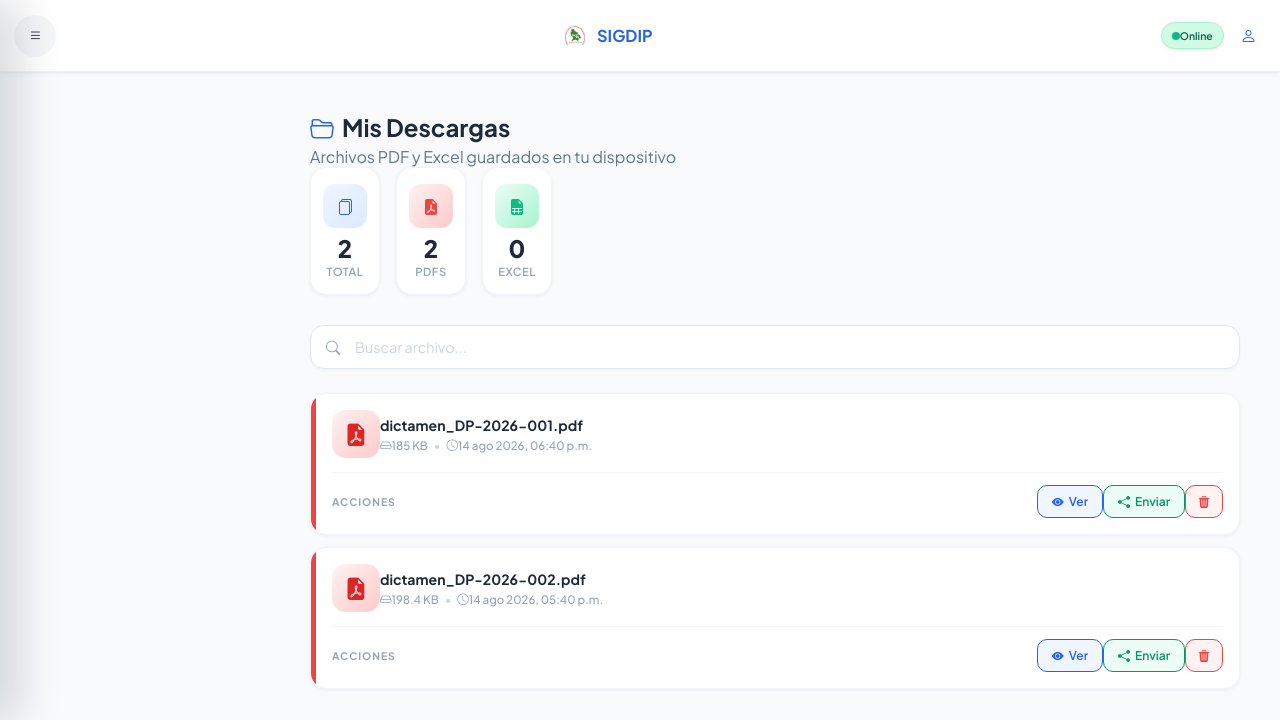
Test case: Flujo de Descargas (E2E) › filtra archivos por busqueda
This screenshot has width=1280, height=720.
Type "001" into the field with placeholder "Buscar archivo..." at point(775, 347), box [310,325,1240,369]
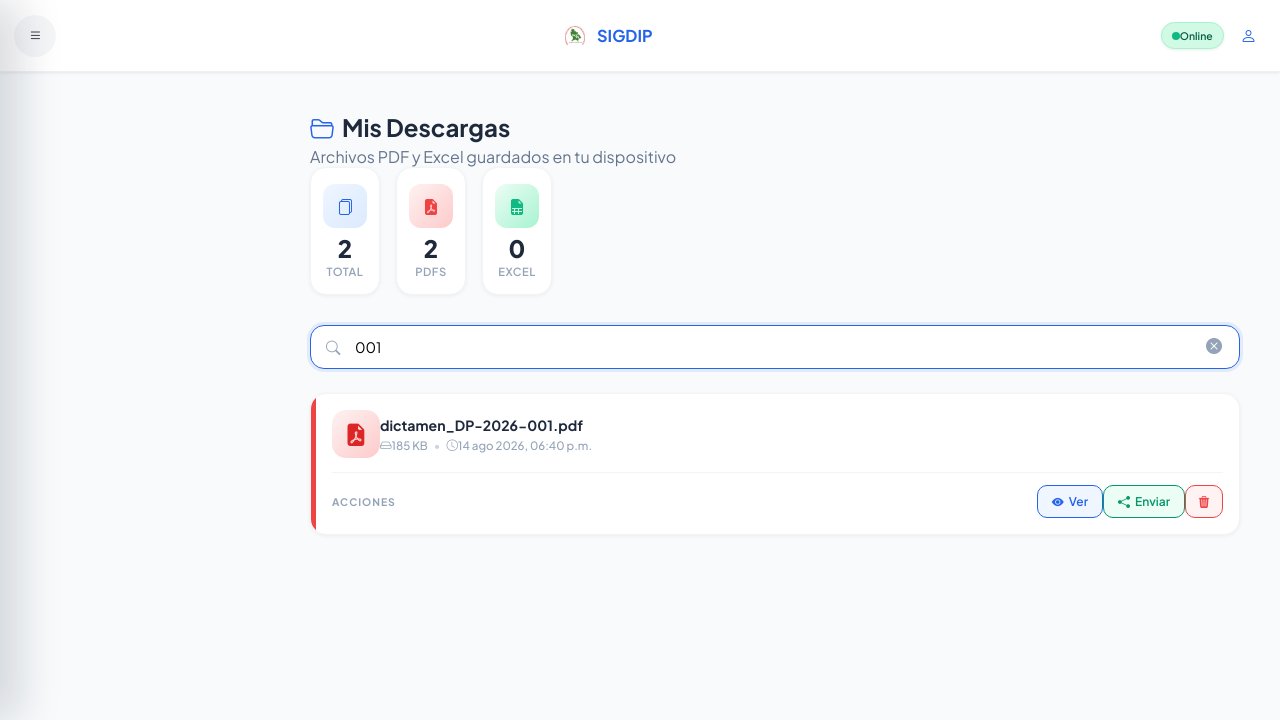
Expected: the heading "dictamen_DP-2026-001.pdf" is shown, [380,416,583,434]
Result: the heading "DP-2026-002" is gone
